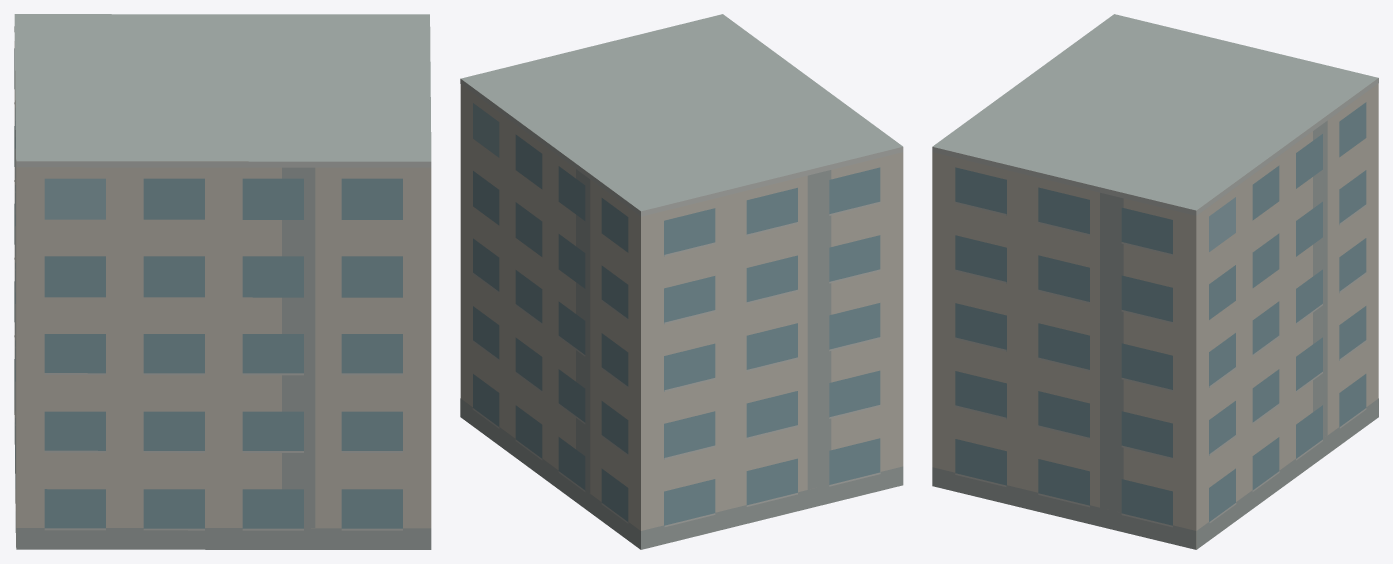
File: survey-upis-32709499.glb
The picture shows the model from 3 angles, left to right: view 1: azimuth 30°, elevation 25°; view 2: azimuth 150°, elevation 25°; view 3: azimuth 270°, elevation 25°; orthographic projection. The views are drawn at different scales.
Parts seen in each view (by area): view 1: survey-upis-32709499.tmp; view 2: survey-upis-32709499.tmp; view 3: survey-upis-32709499.tmp.
Part boxes in pixels (x1,y1,x2,y2): survey-upis-32709499.tmp: (14, 14, 431, 549); survey-upis-32709499.tmp: (460, 14, 903, 549); survey-upis-32709499.tmp: (932, 14, 1378, 549).
Size of the model in its own units: 19.14 by 15.4 by 18.37.
